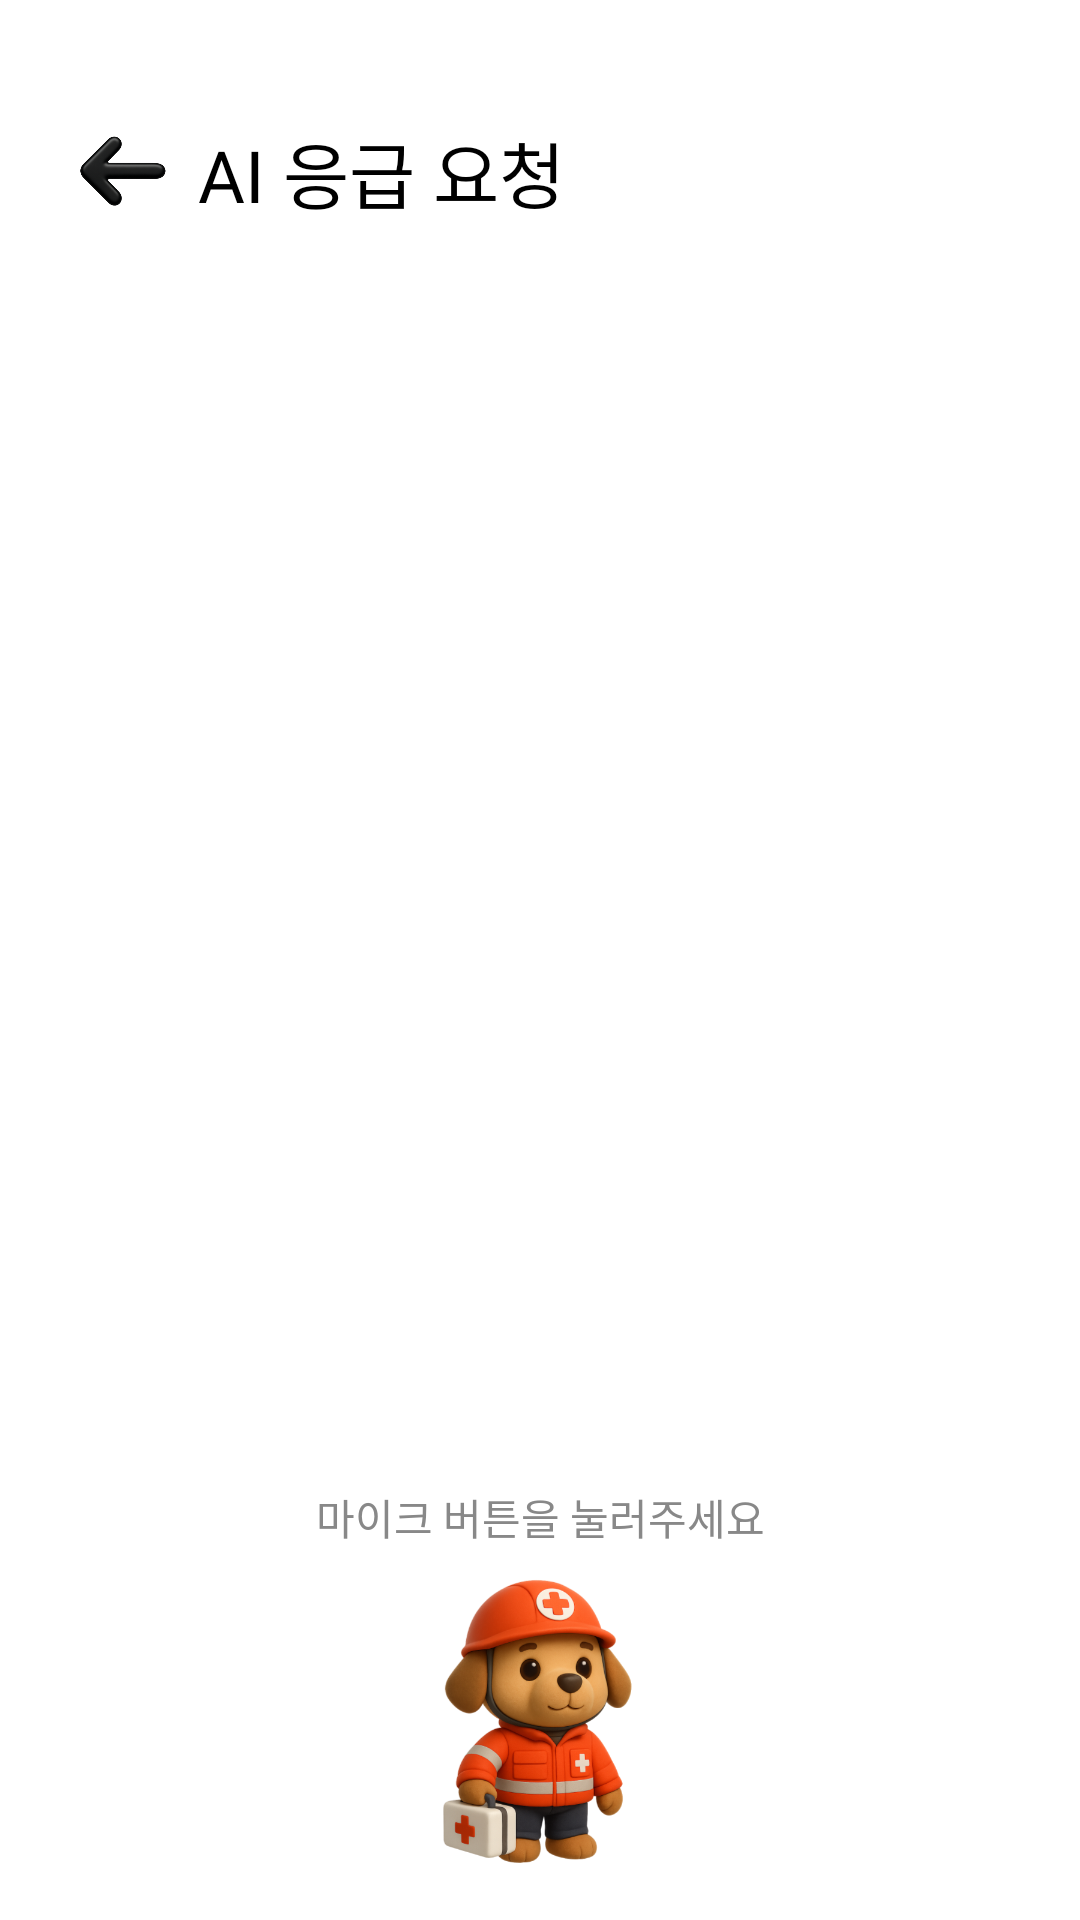

Named icons in this screenshot (1080 × 1920) and their centers, (x=x, y=y):
backicon: (x=123, y=171)
